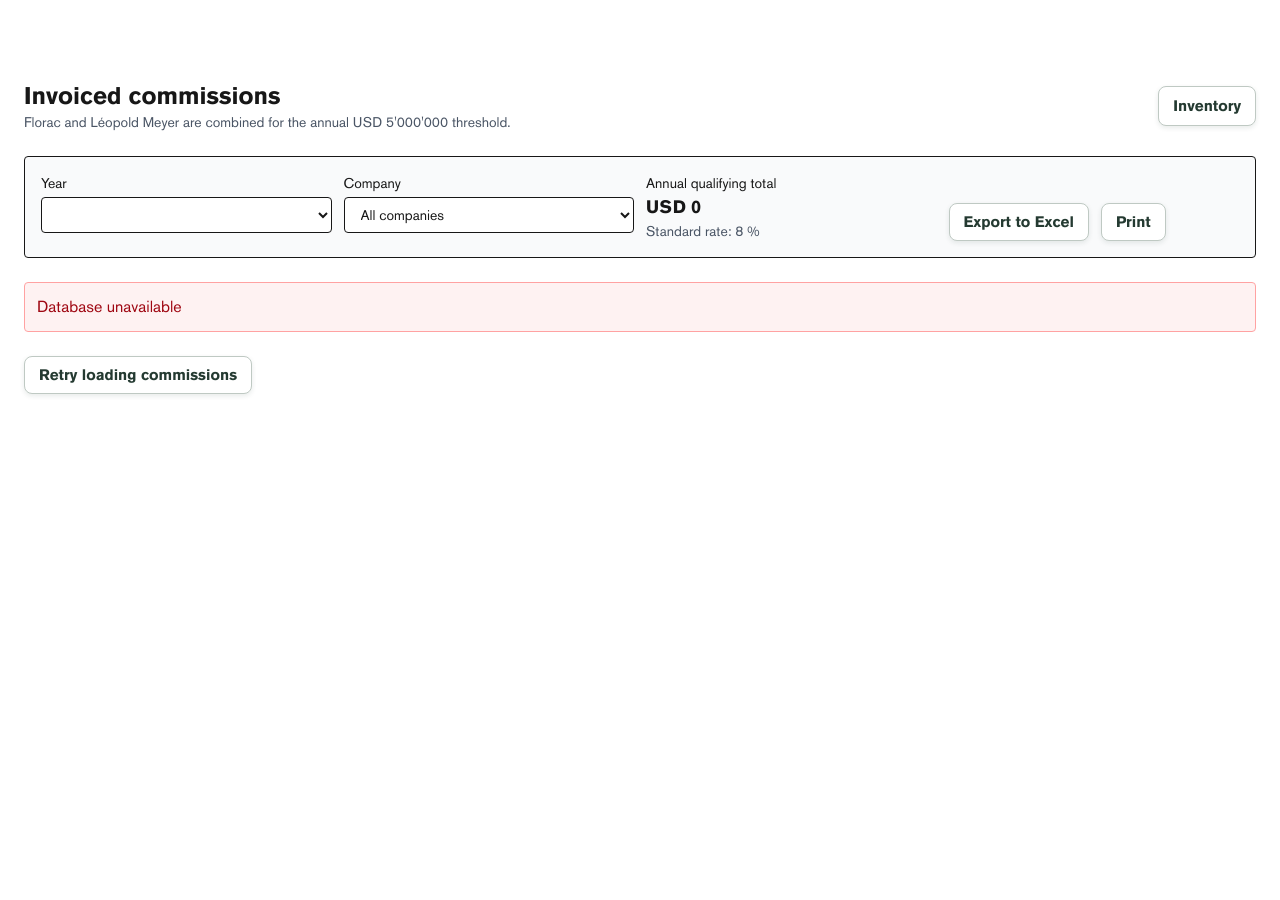
commission invoice file input › stops loading and offers retry after an API error
The image size is (1280, 900).
Expected: the message "Database unavailable" is shown, [24,282,1256,332]
Step 1. Click the button "Retry loading commissions" → (138, 375), box [24,356,252,394]
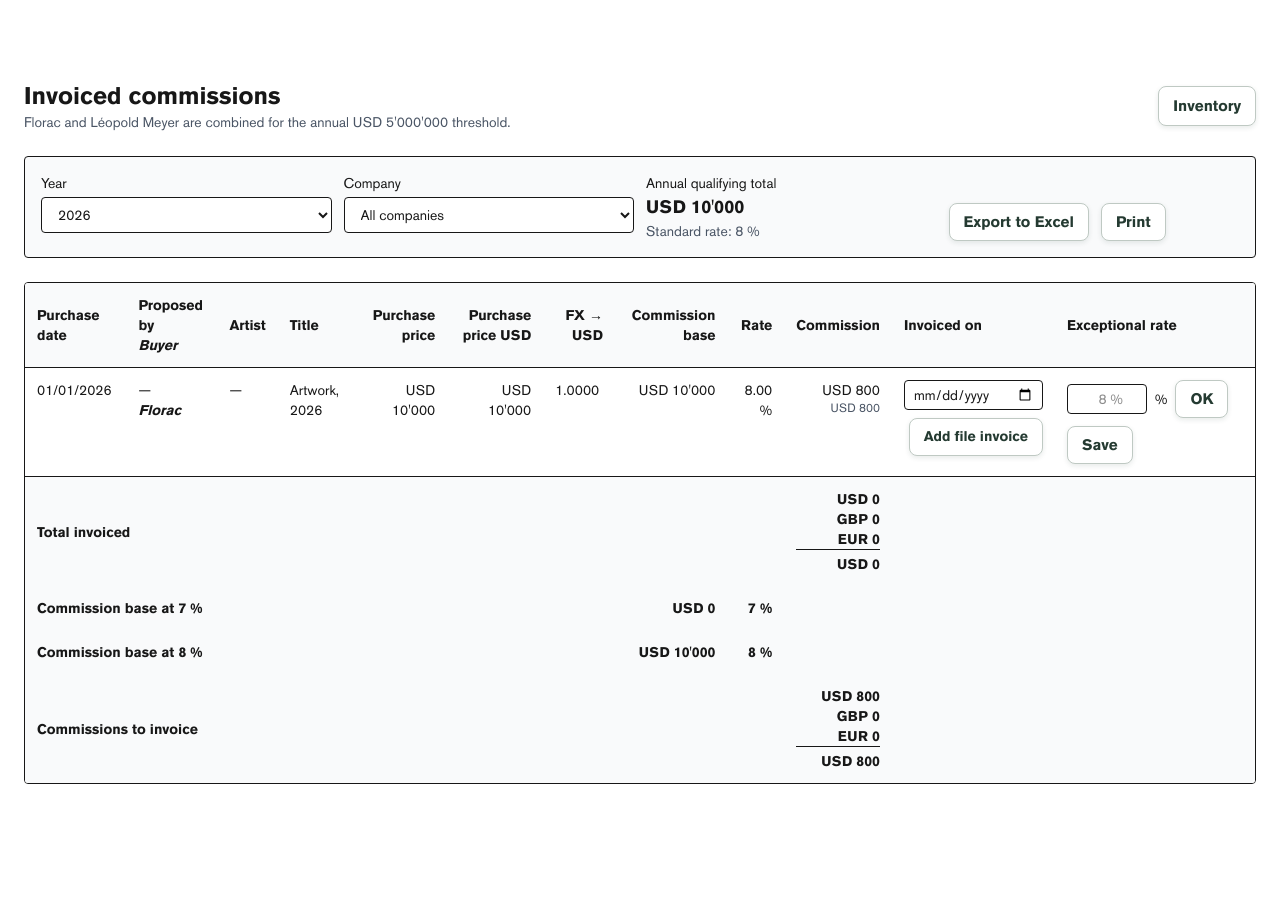
Now the message "Database unavailable" is gone
Now the text "Artwork" is shown, box [290,382,339,418]
